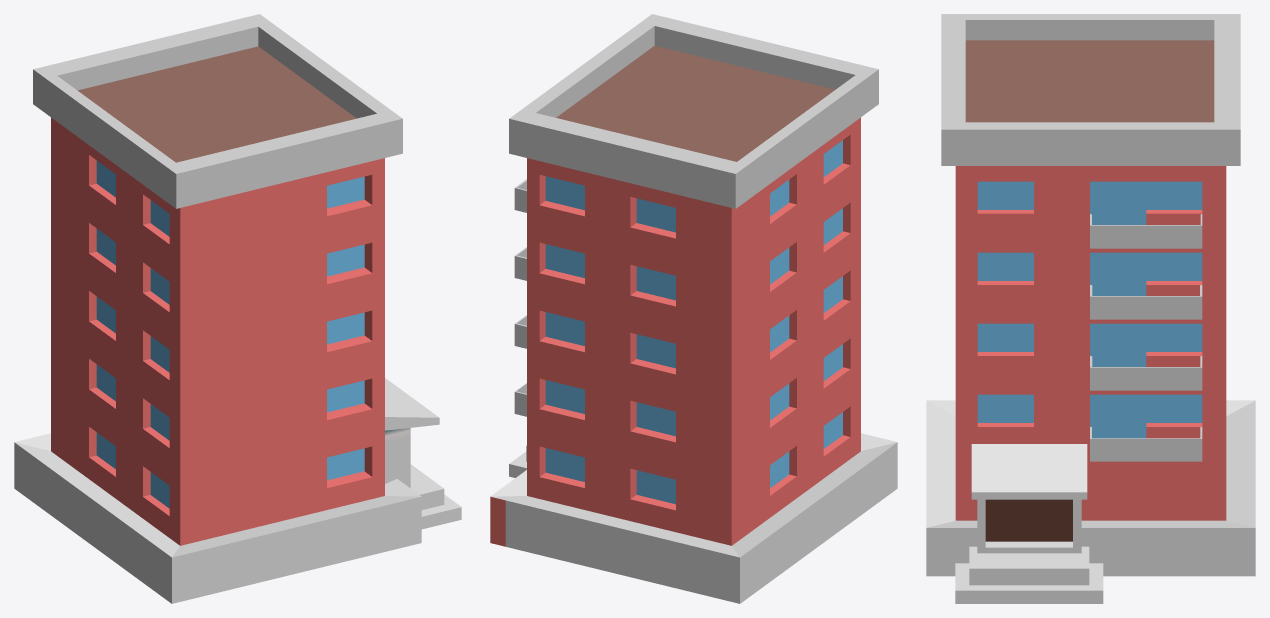
The model's file is House_3.fbx.
The picture shows the model from 3 angles, left to right: view 1: azimuth 30°, elevation 25°; view 2: azimuth 150°, elevation 25°; view 3: azimuth 270°, elevation 25°; orthographic projection. The views are drawn at different scales.
Visible parts, largest first — view 1: House_2; view 2: House_2; view 3: House_2.
Boxes of the visible parts, box(x1,y1,x2,y2) form: House_2: box(14, 14, 461, 603); House_2: box(490, 14, 897, 603); House_2: box(926, 14, 1255, 603).
Bounding box in the file's own units: 8761 × 11625 × 7877.
1 material, 1 textured.
